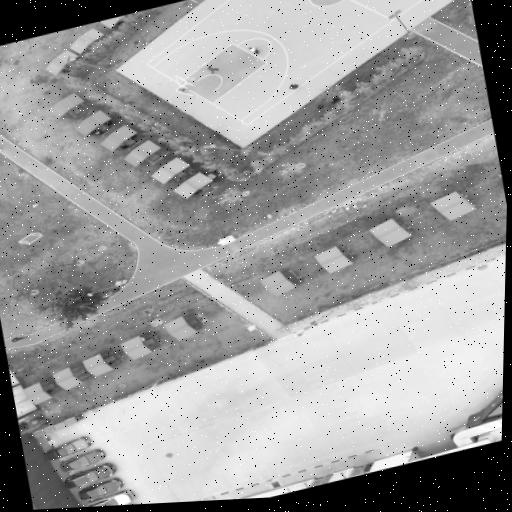car: (65, 462, 115, 487), (45, 436, 91, 459), (60, 448, 104, 470), (79, 477, 122, 499), (87, 489, 133, 506), (96, 502, 142, 512)
person: (330, 93, 341, 103), (206, 65, 219, 73), (11, 335, 27, 341), (177, 85, 189, 91), (249, 46, 259, 53), (290, 83, 300, 88), (104, 120, 112, 125), (93, 130, 102, 134), (0, 139, 1, 151)
